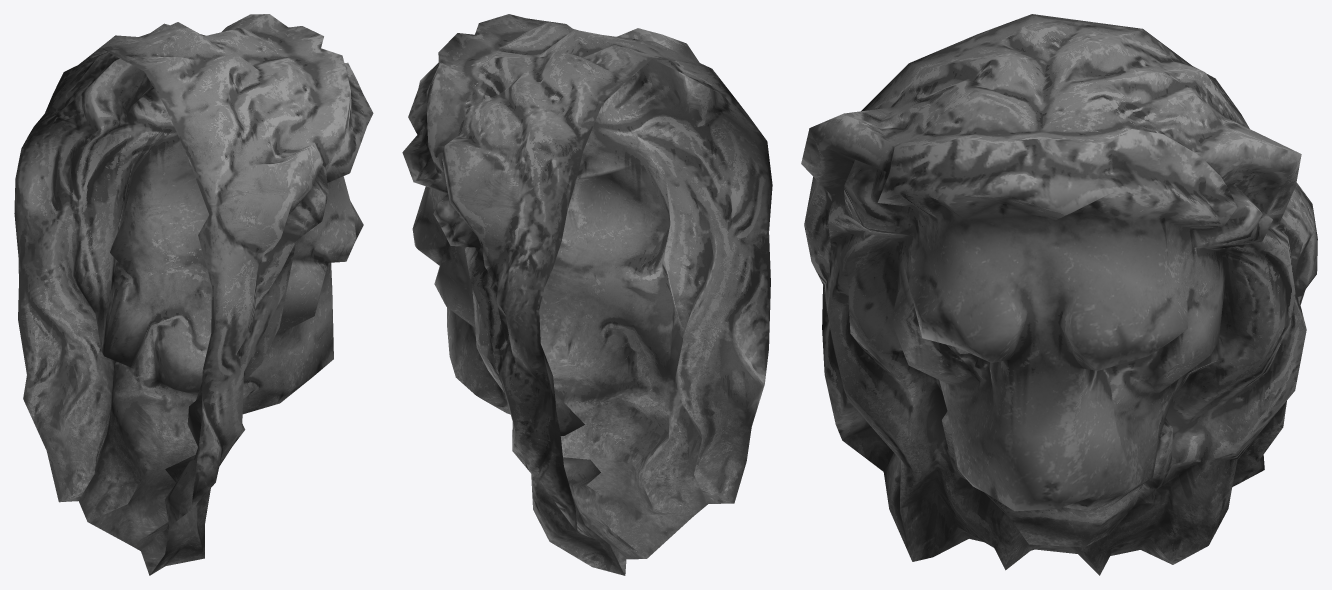
The model's file is Lion_Head_Sculpture.glb.
The picture shows the model from 3 angles, left to right: view 1: azimuth 30°, elevation 25°; view 2: azimuth 150°, elevation 25°; view 3: azimuth 270°, elevation 25°; orthographic projection. The views are drawn at different scales.
Parts seen in each view (by area): view 1: defaultMaterial; view 2: defaultMaterial; view 3: defaultMaterial.
Boxes of the visible parts, box(x1,y1,x2,y2) form: defaultMaterial: box(14, 14, 373, 575); defaultMaterial: box(402, 14, 772, 575); defaultMaterial: box(801, 14, 1317, 575).
Bounding box in the file's own units: 1.12 × 2 × 1.65.
Materials: 1 (1 with a texture image).
